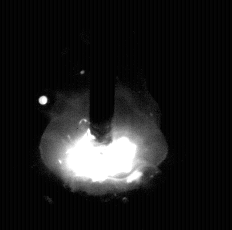arame: (90, 0, 115, 144)
poca: (40, 0, 169, 230)
